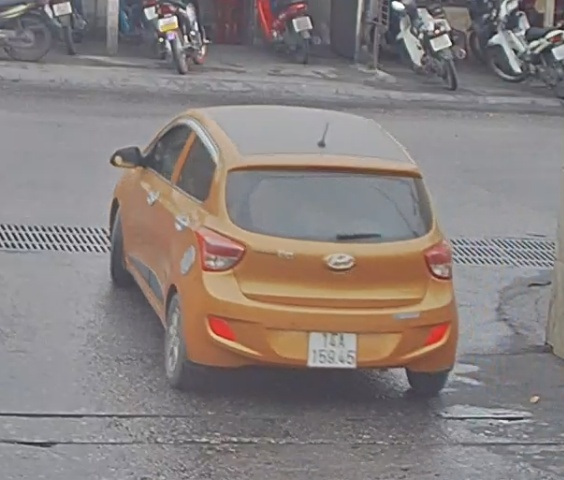vehicle plate: (304, 325, 360, 371)
